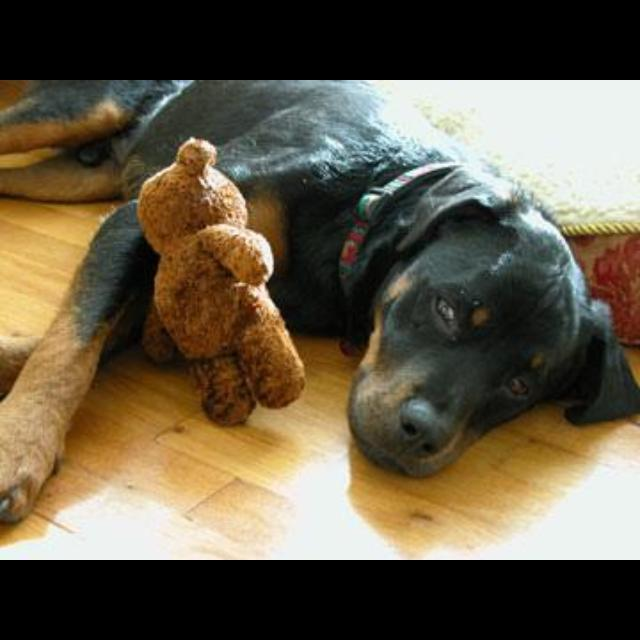rottweiler: (1, 81, 639, 525)
